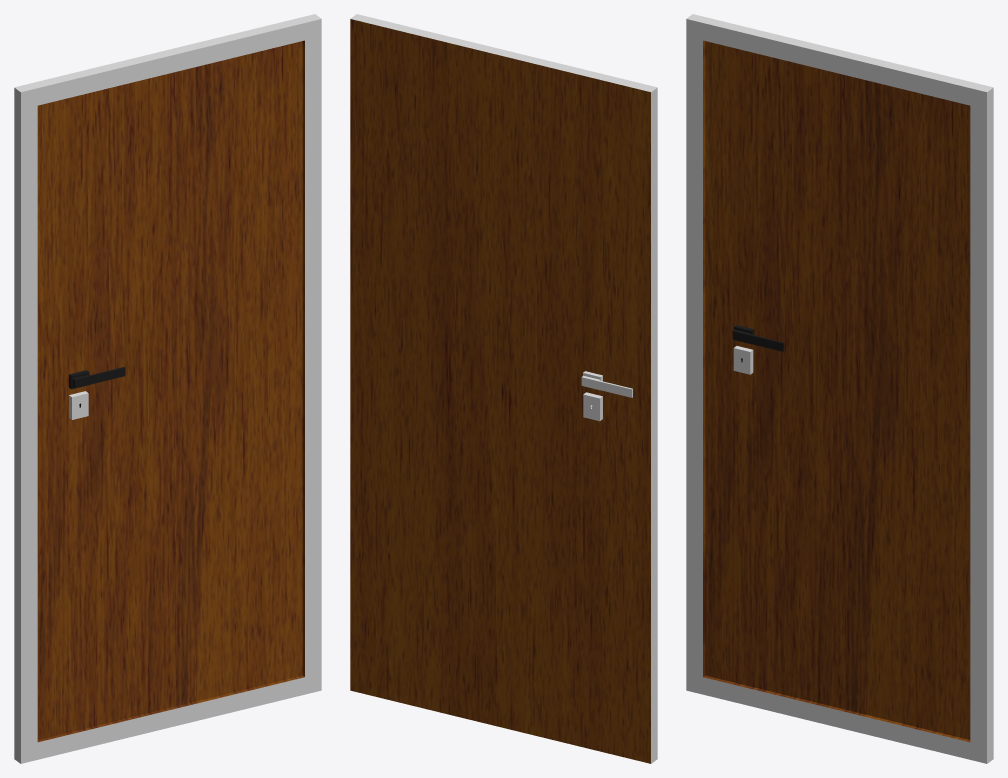
File: doortwo.glb
3 renders of one model, left to right at view 1: azimuth 30°, elevation 25°; view 2: azimuth 150°, elevation 25°; view 3: azimuth 330°, elevation 25°, orthographic.
Parts seen in each view (by area): view 1: Cube, Cube.001; view 2: Cube, Cube.003; view 3: Cube, Cube.001, Cube.002.
Boxes of the visible parts, x1,y1,x2,y2 form: Cube: [14, 14, 321, 763]; Cube.001: [69, 367, 125, 389]; Cube: [350, 14, 657, 763]; Cube.003: [581, 371, 632, 397]; Cube: [686, 14, 993, 763]; Cube.001: [732, 325, 784, 351]; Cube.002: [733, 346, 753, 374].
Bounding box in the file's own units: 2.06 × 4.39 × 0.1782.
Materials: 5 (1 with a texture image).
